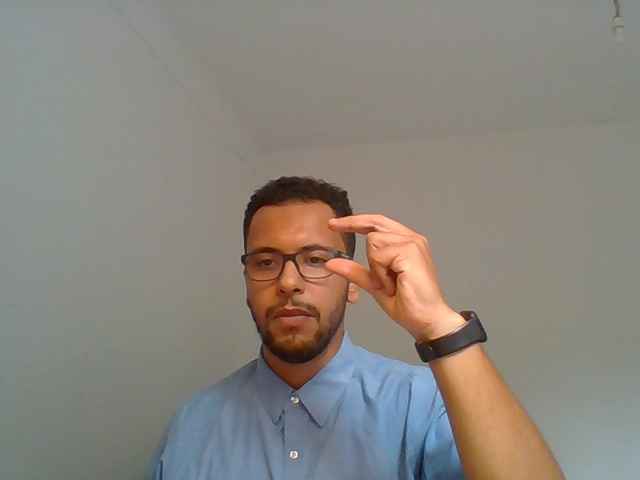no: (313, 197, 483, 414)
